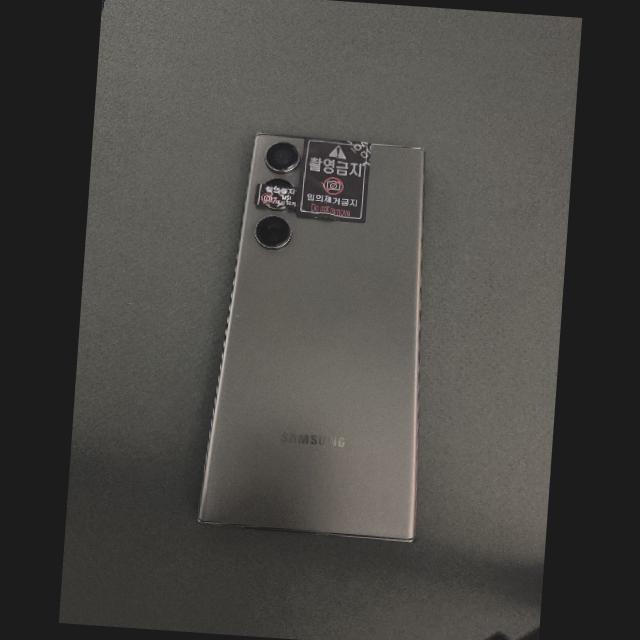lens: (255, 215, 291, 249), (265, 142, 299, 173), (265, 178, 294, 187)
phone: (197, 134, 424, 541)
sticker: (296, 138, 371, 222), (255, 183, 299, 209)
